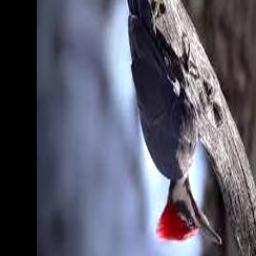Woodpecker: (125, 0, 221, 245)
